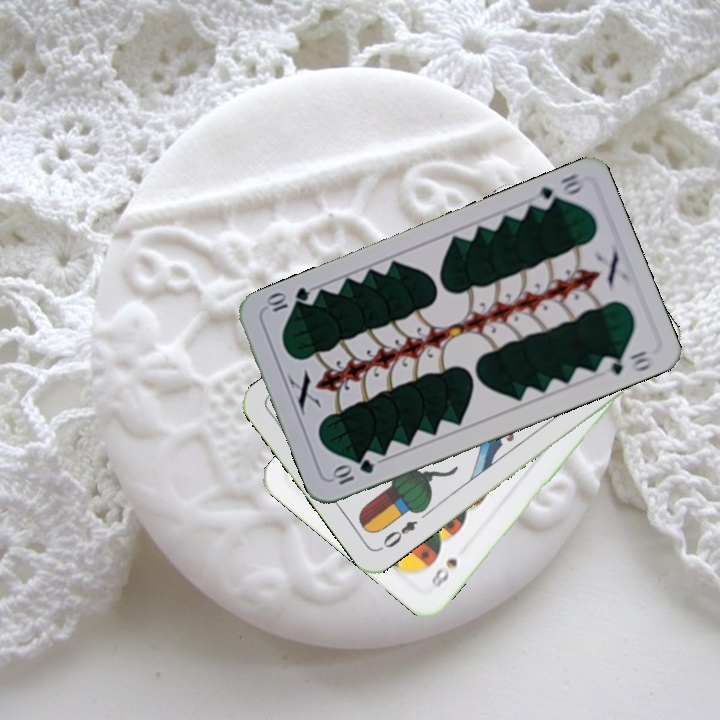EO: (375, 516, 420, 553)
G10: (532, 169, 585, 212), (328, 455, 377, 488)
S8: (427, 554, 460, 591)
